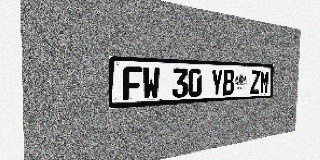0: (188, 68, 202, 97)
3: (172, 68, 188, 98)
B: (223, 69, 234, 95)
F: (123, 66, 142, 101)
M: (260, 70, 269, 93)
W: (142, 67, 160, 100)
Y: (210, 69, 223, 96)
Z: (250, 70, 260, 94)
